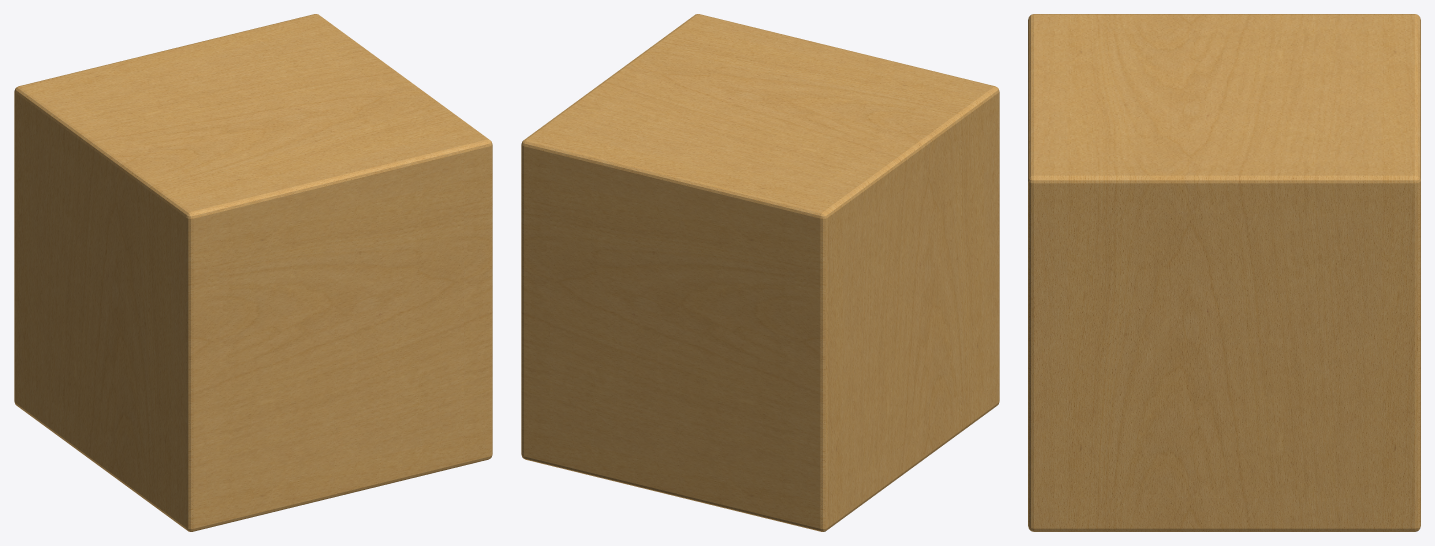
The picture shows the model from 3 angles, left to right: view 1: azimuth 30°, elevation 25°; view 2: azimuth 150°, elevation 25°; view 3: azimuth 270°, elevation 25°; orthographic projection. The views are drawn at different scales.
Parts seen in each view (by area): view 1: wooden_block_10; view 2: wooden_block_10; view 3: wooden_block_10.
Part boxes in pixels (x1,y1,x2,y2): wooden_block_10: (14, 14, 492, 531); wooden_block_10: (521, 14, 999, 531); wooden_block_10: (1028, 14, 1420, 531).
Bounding box in the file's own units: 0.1 × 0.1 × 0.1.
1 material, 1 textured.
